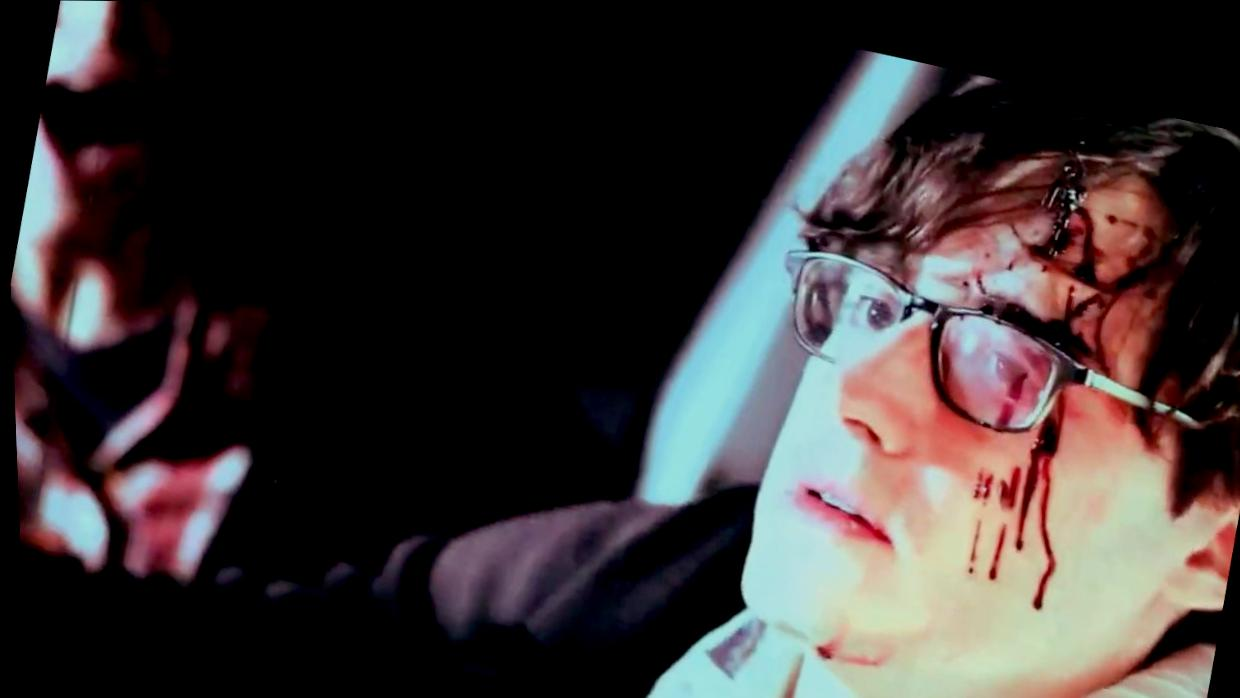Fire: (1033, 165, 1168, 397), (965, 385, 1065, 610), (940, 240, 1058, 299), (812, 636, 873, 671), (989, 374, 1024, 423)
